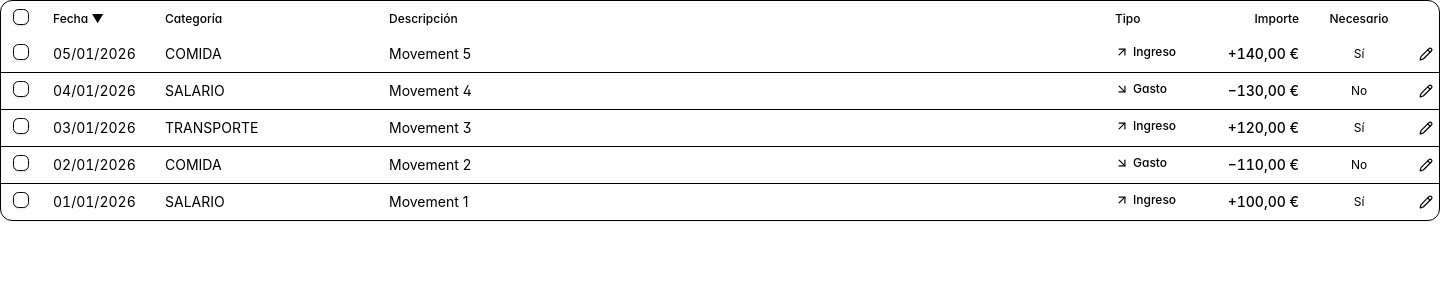
Test: MovementsTable › multi-select › deselects all on current page when header checkbox clicked with all selected
The width and height of the screenshot is (1440, 287).
# First select all
What coordinates should you click on to do the following:
click the checkbox named "Select all on page"
I would click on:
 (21, 17)
Its box is [13,9,29,25].
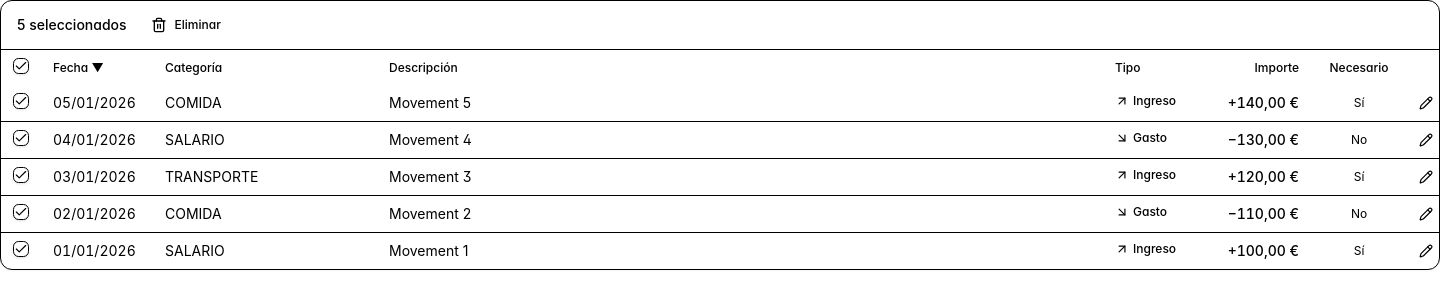
Result: the text "5 seleccionados" is shown at [17,15,127,35]
# Click again → deselect all on page
What coordinates should you click on to do the following:
click the checkbox named "Select all on page"
I would click on:
 (21, 66)
Its box is [13,58,29,74].
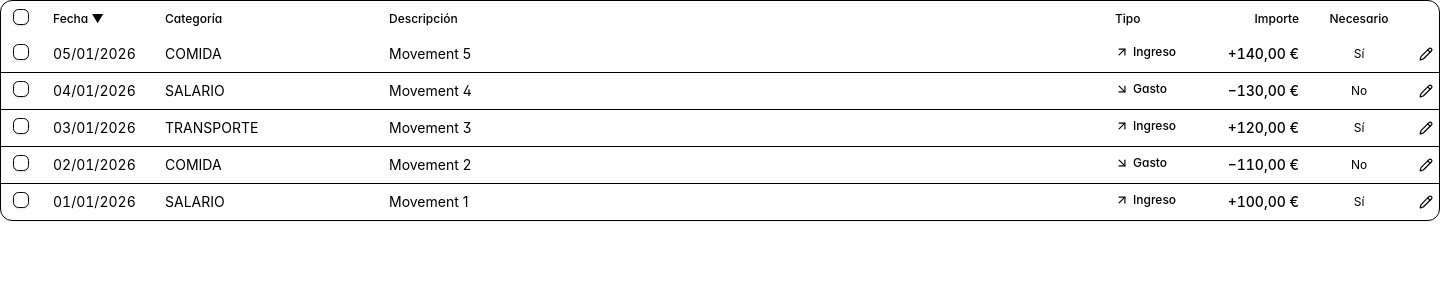
Result: the text "seleccionados" is gone
